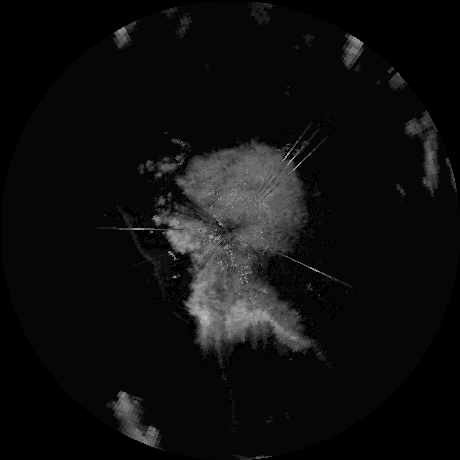frontgust: (124, 215, 164, 289)
